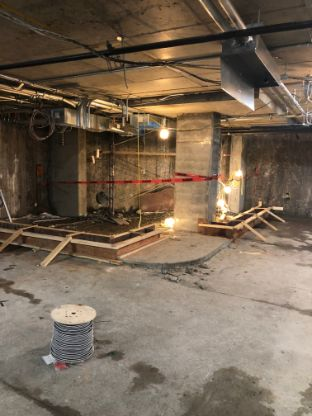Duct: (46, 105, 115, 141), (124, 107, 177, 135)
